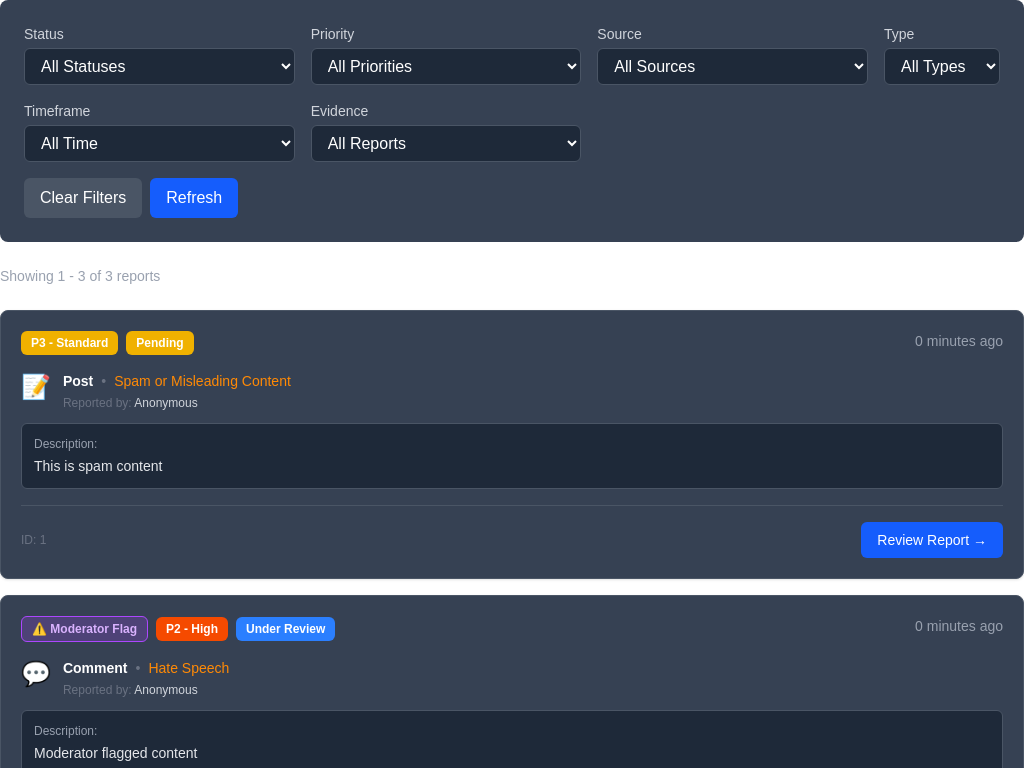
Scenario: ModerationQueue › Refresh › should disable refresh button while loading
Click the button "Refresh": (194, 198) left=150, top=178, right=238, bottom=218
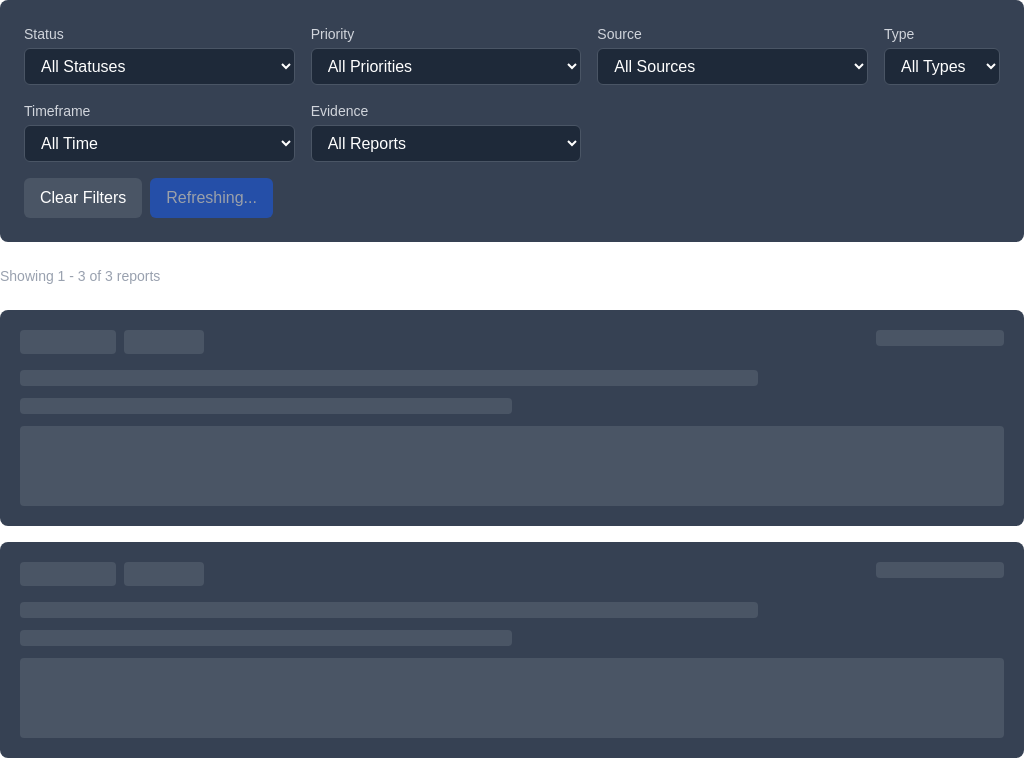
Now the button "Refreshing..." is disabled, box left=150, top=178, right=273, bottom=218
